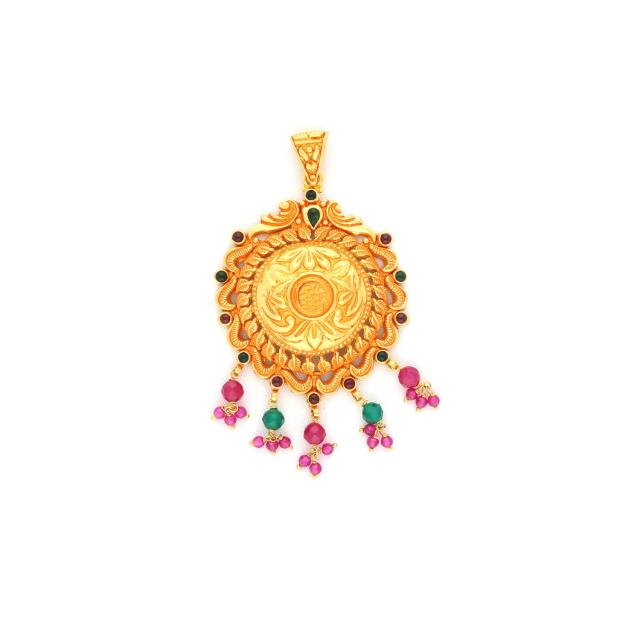missing gem: (290, 275, 333, 318)
